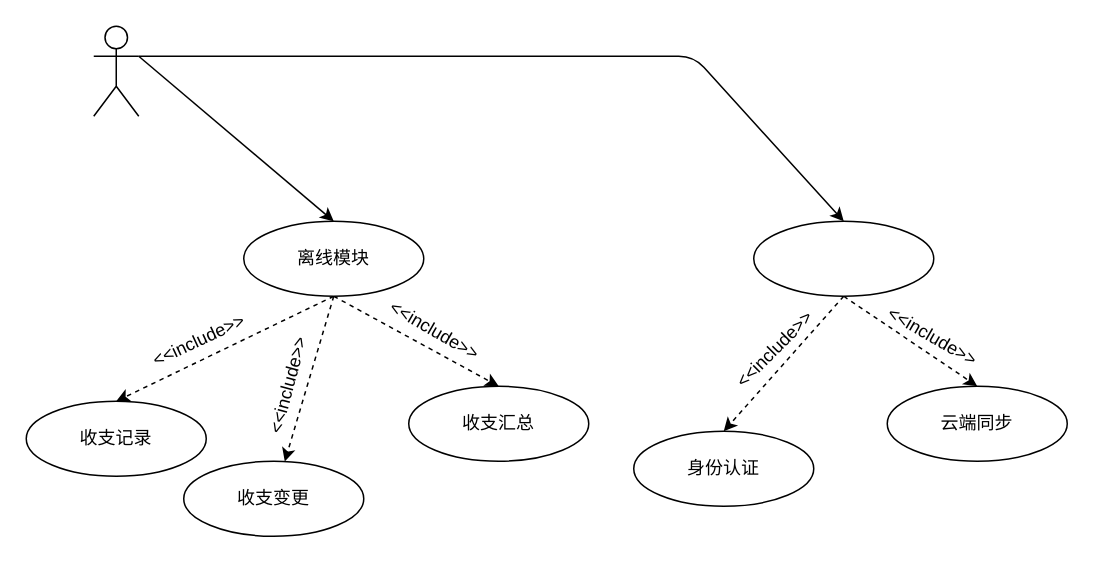
Some shapes in this 1094 by 563 pixel diagram are drawn without their labels. Here are the shapes that lost their labels. From the top down, the centre of each, then its label:
(115,70): Actor
(843,258): 在线模块
